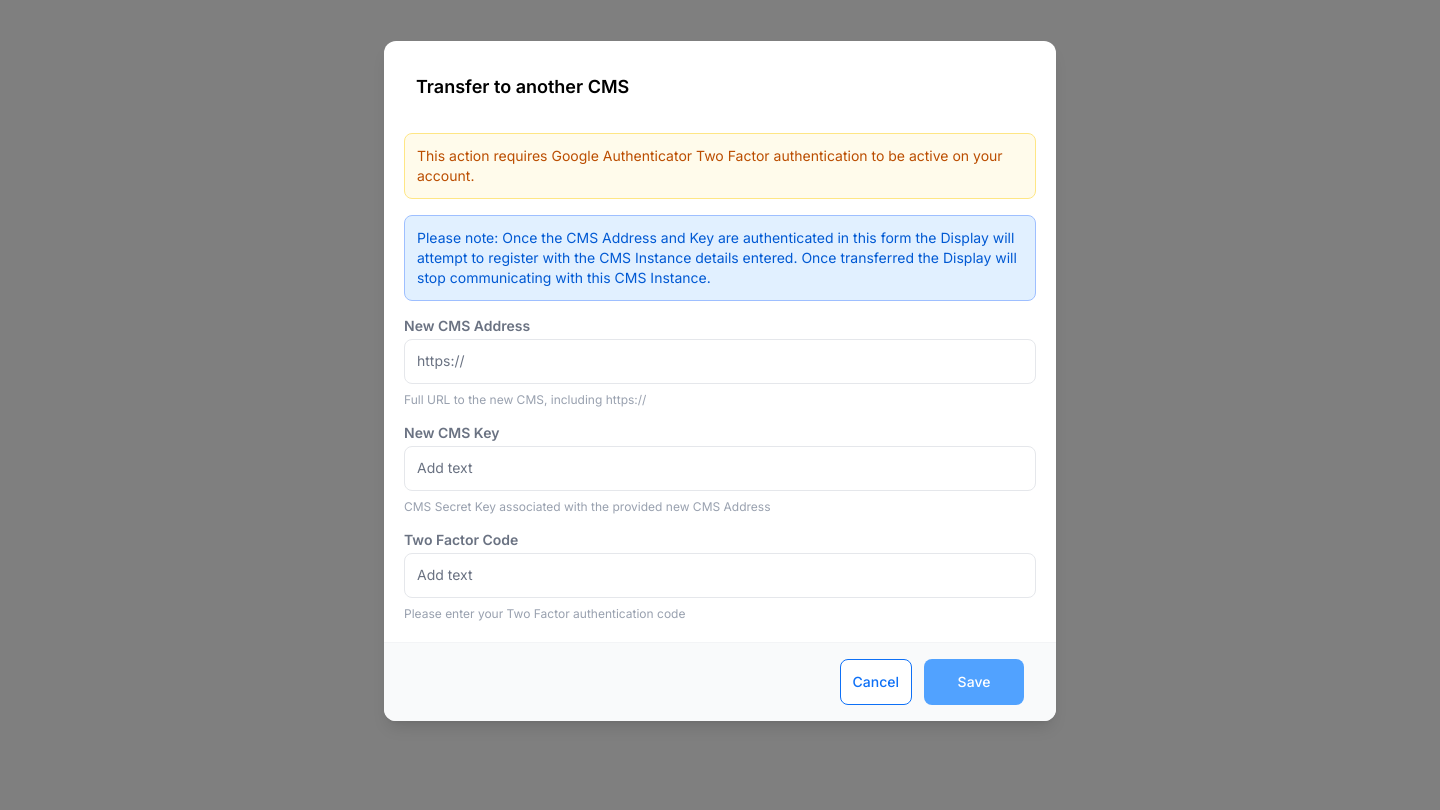
Test: TransferCmsModal › Save is enabled when both CMS address and two-factor code are filled
Type "https://new.cms.example.com" into the field labelled "New CMS Address" at (720, 361), box top-left (405, 340), bottom-right (1035, 382)
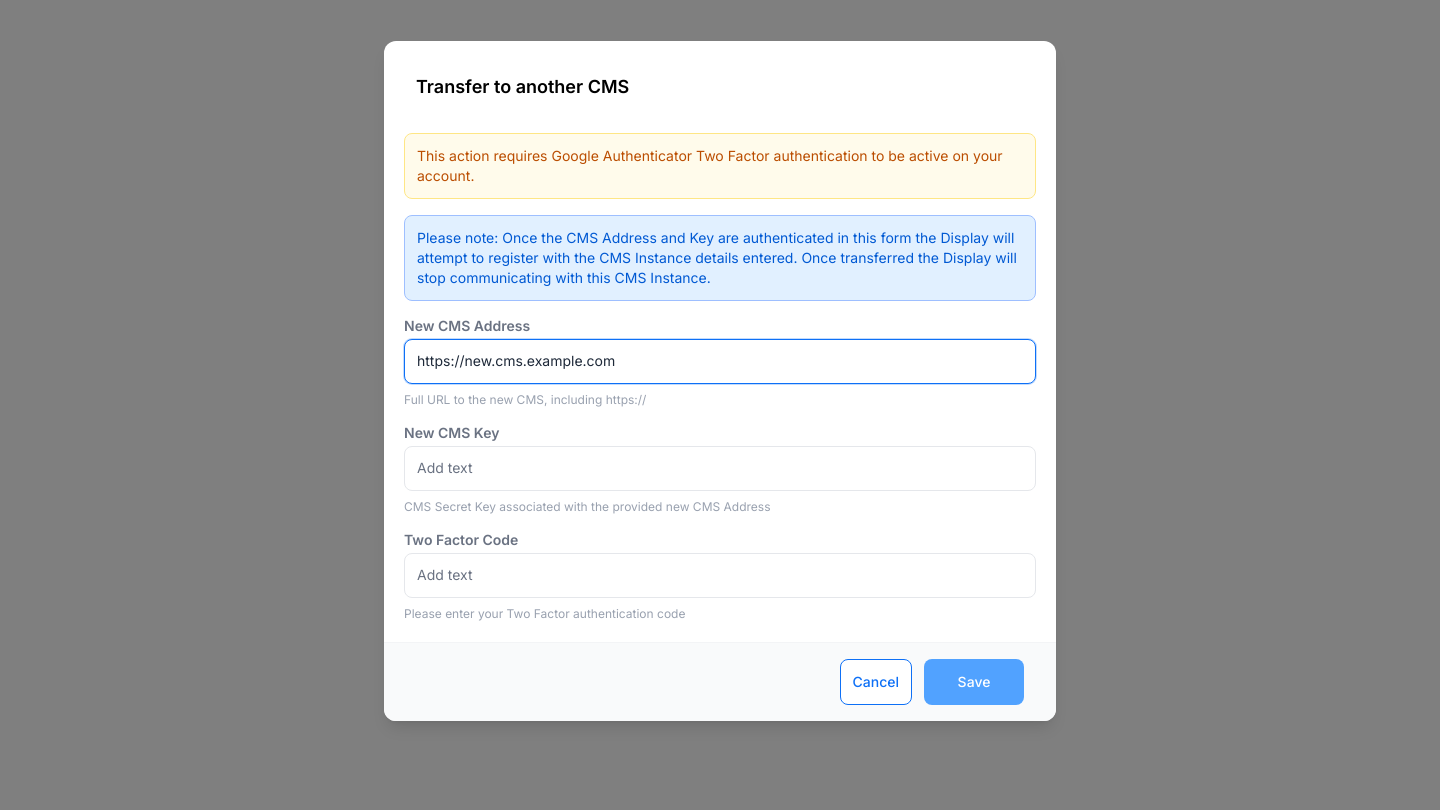
Type "123456" into the field labelled "Two Factor Code" at (720, 575), box top-left (405, 554), bottom-right (1035, 596)
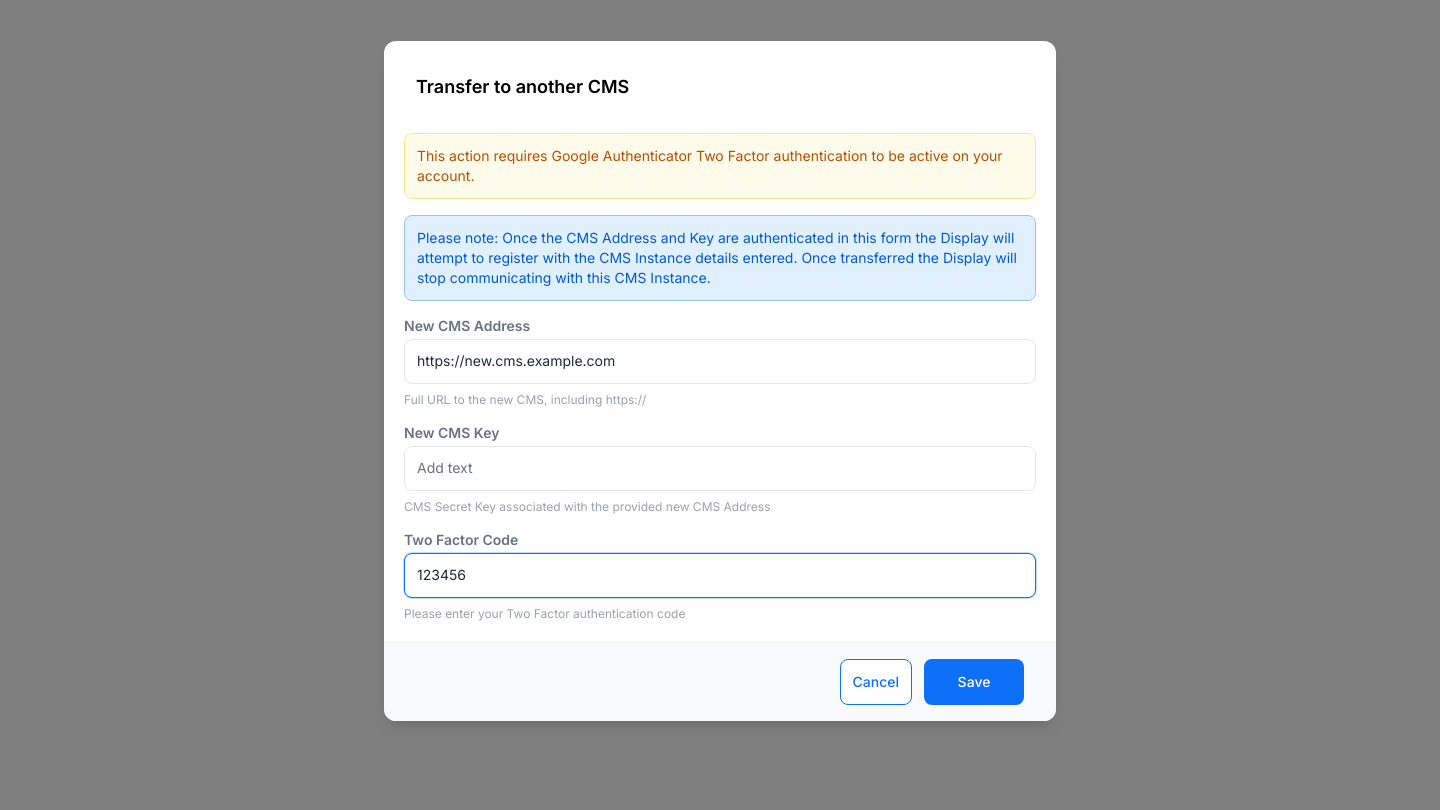
Check: the button "Save" is enabled, box top-left (924, 658), bottom-right (1024, 704)
